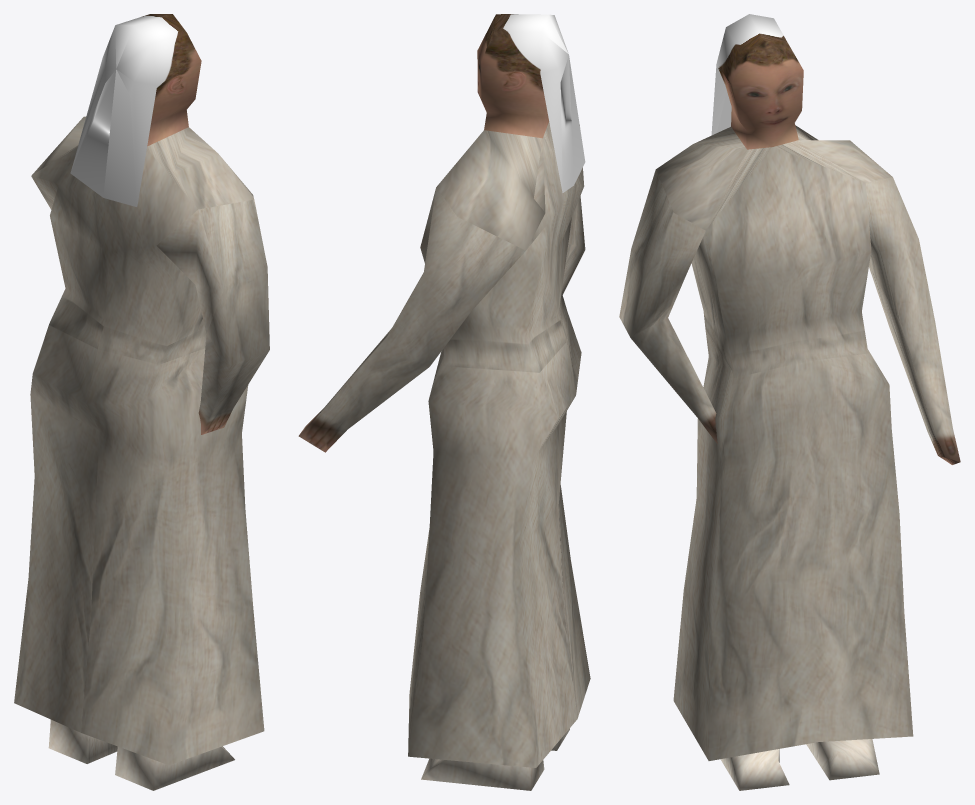
Rendered from lady1_69.fbx.
3 renders of one model, left to right at view 1: azimuth 30°, elevation 25°; view 2: azimuth 150°, elevation 25°; view 3: azimuth 270°, elevation 25°, orthographic. The views are drawn at different scales.
Parts seen in each view (by area): view 1: lady1_69; view 2: lady1_69; view 3: lady1_69.
Part boxes in pixels (bbox=[...]): lady1_69: bbox=[14, 14, 269, 790]; lady1_69: bbox=[298, 14, 590, 790]; lady1_69: bbox=[619, 14, 960, 790].
Size of the model in its own units: 10.07 by 35.63 by 15.08.
